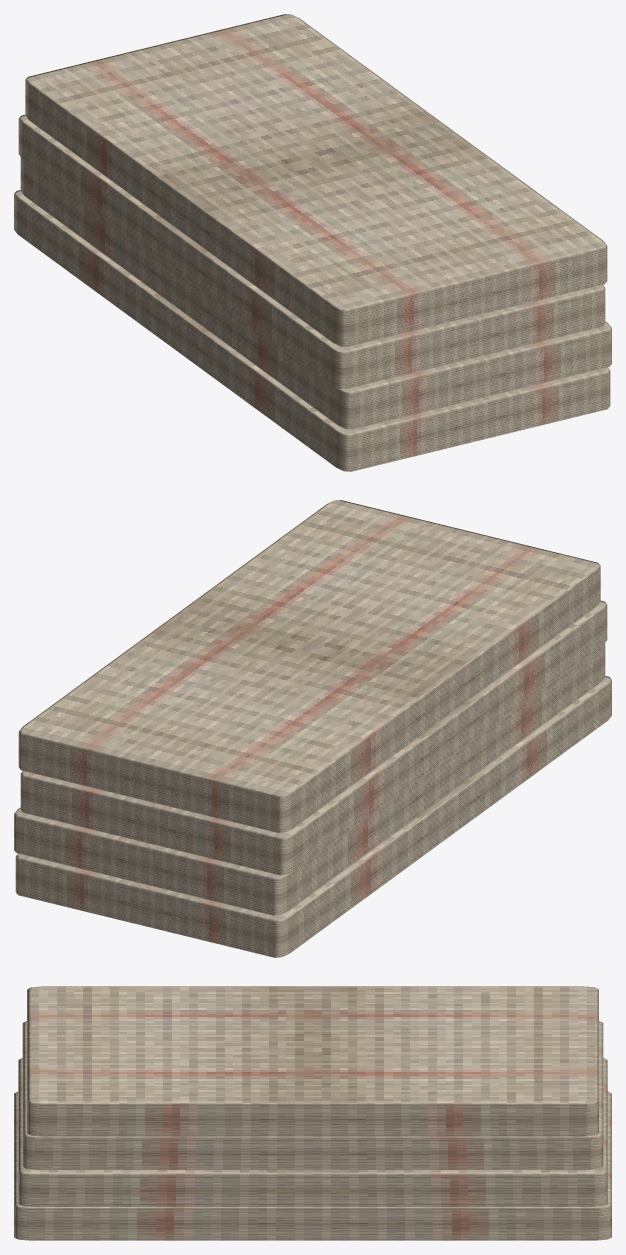
Rendered from gloves.glb.
The picture shows the model from 3 angles, top to bottom: view 1: azimuth 30°, elevation 25°; view 2: azimuth 150°, elevation 25°; view 3: azimuth 270°, elevation 25°; orthographic projection. The views are drawn at different scales.
Visible parts, largest first — view 1: fold (×4); view 2: fold (×4); view 3: fold (×4).
Part boxes in pixels (left/top/right/bottom): fold (×4): left=14, top=14, right=611, bottom=471; fold (×4): left=14, top=500, right=611, bottom=957; fold (×4): left=14, top=986, right=611, bottom=1240.
Bounding box in the file's own units: 0.1182 × 0.0644 × 0.2496.
1 material, 1 textured.
